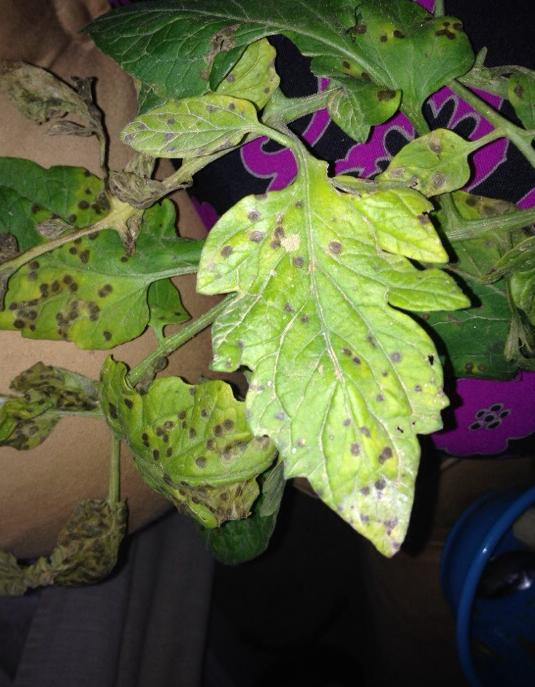Tomato Septoria leaf spot: (202, 166, 469, 570), (85, 0, 505, 124), (81, 357, 294, 529), (0, 223, 163, 351), (88, 94, 271, 173), (375, 131, 493, 203)
